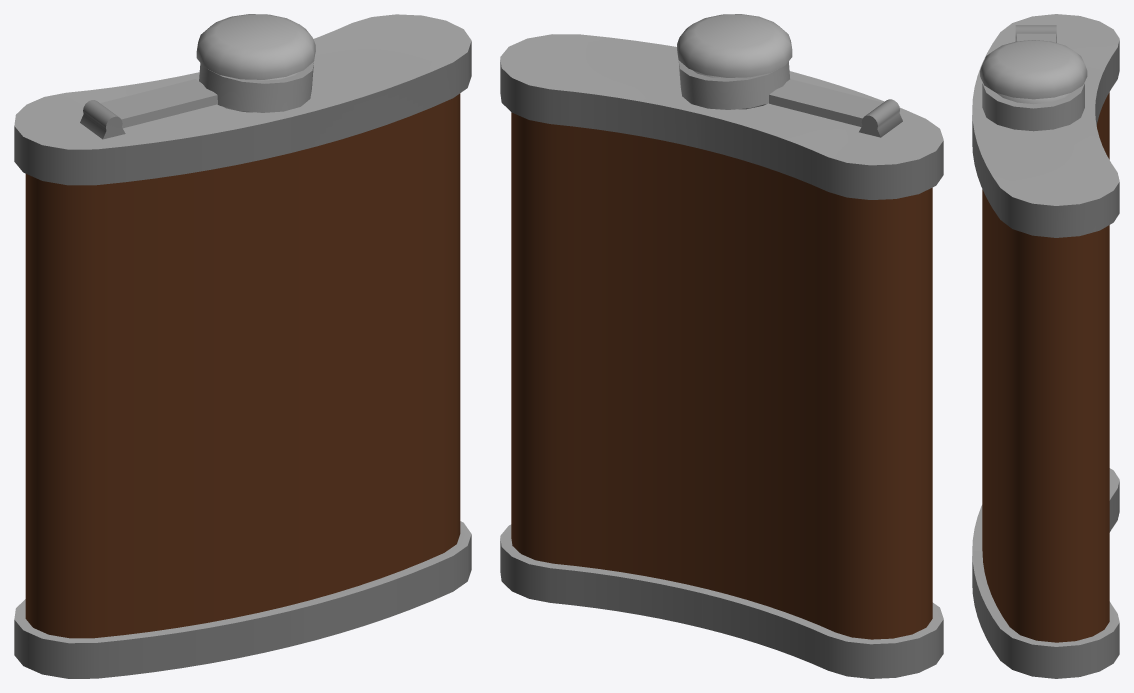
Rendered from flask.fbx.
The picture shows the model from 3 angles, left to right: view 1: azimuth 30°, elevation 25°; view 2: azimuth 150°, elevation 25°; view 3: azimuth 270°, elevation 25°; orthographic projection. The views are drawn at different scales.
Parts seen in each view (by area): view 1: Plane; view 2: Plane; view 3: Plane.
Boxes of the visible parts, box(x1,y1,x2,y2) form: Plane: box(14, 14, 471, 678); Plane: box(500, 14, 943, 678); Plane: box(972, 14, 1119, 678).
Bounding box in the file's own units: 887 × 1138 × 288.
